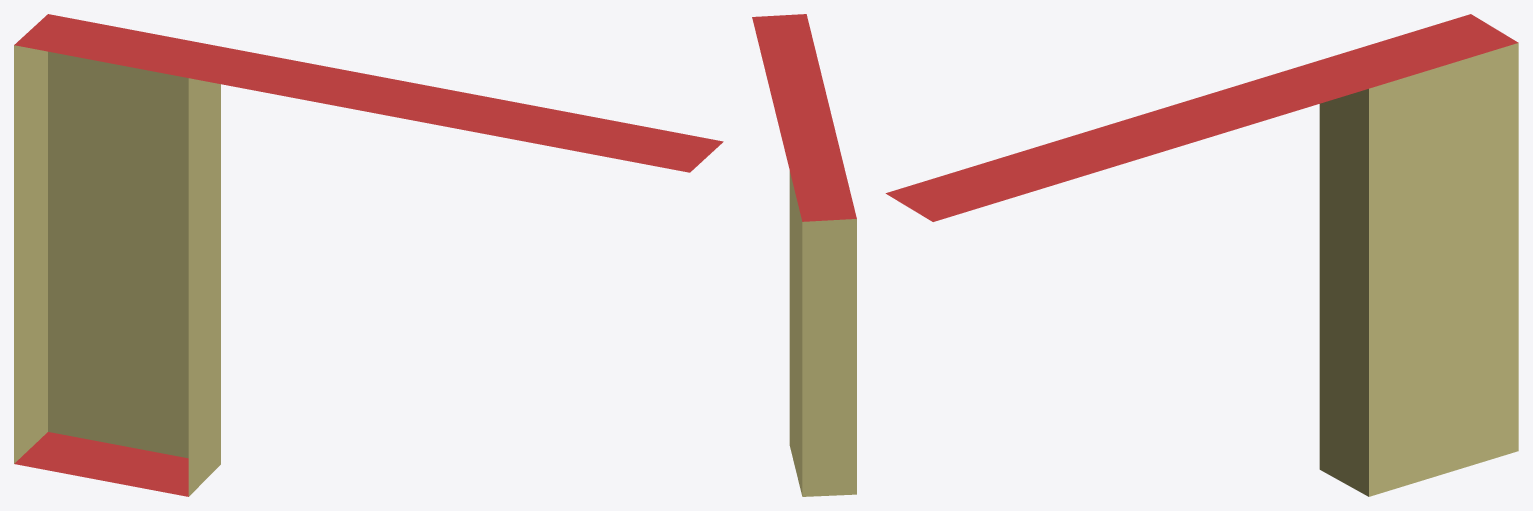
3 views of the same model, side by side, from view 1: azimuth 30°, elevation 25°; view 2: azimuth 150°, elevation 25°; view 3: azimuth 270°, elevation 25° (orthographic). The views are drawn at different scales.
Bounding box in the file's own units: 8.84 × 11.42 × 8.14.
